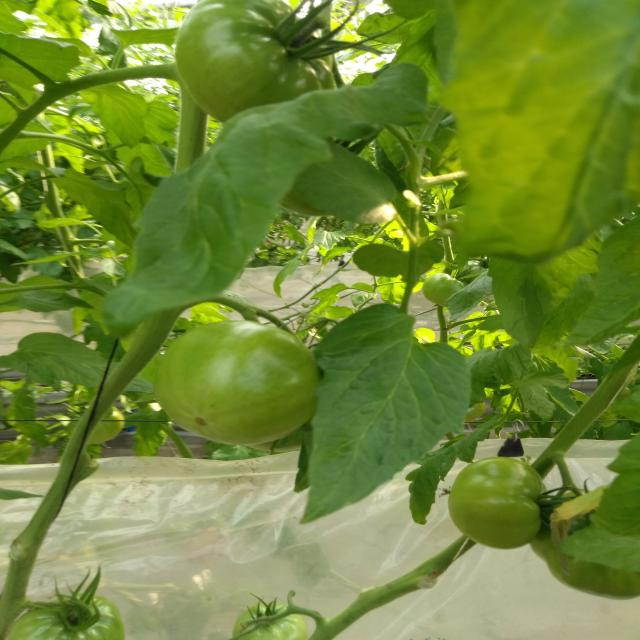yesil: (59, 308, 351, 457), (175, 3, 368, 151), (439, 463, 634, 575)
